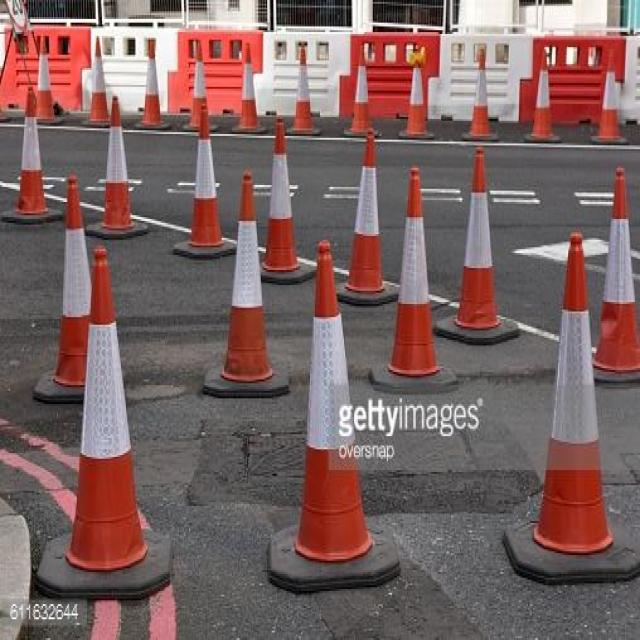Cone: (264, 234, 407, 600), (496, 230, 640, 586), (38, 243, 176, 610), (34, 172, 129, 406), (372, 165, 461, 396), (203, 168, 292, 396), (435, 148, 524, 348), (329, 126, 402, 312), (586, 162, 640, 385), (172, 100, 245, 264), (256, 113, 324, 289), (4, 83, 65, 227), (92, 92, 149, 238), (591, 47, 627, 149), (29, 34, 65, 130), (134, 36, 170, 132), (461, 47, 496, 144), (237, 40, 271, 134), (526, 49, 560, 142), (343, 49, 379, 136), (86, 36, 117, 132), (398, 58, 433, 138), (186, 42, 216, 132), (288, 45, 318, 134)
